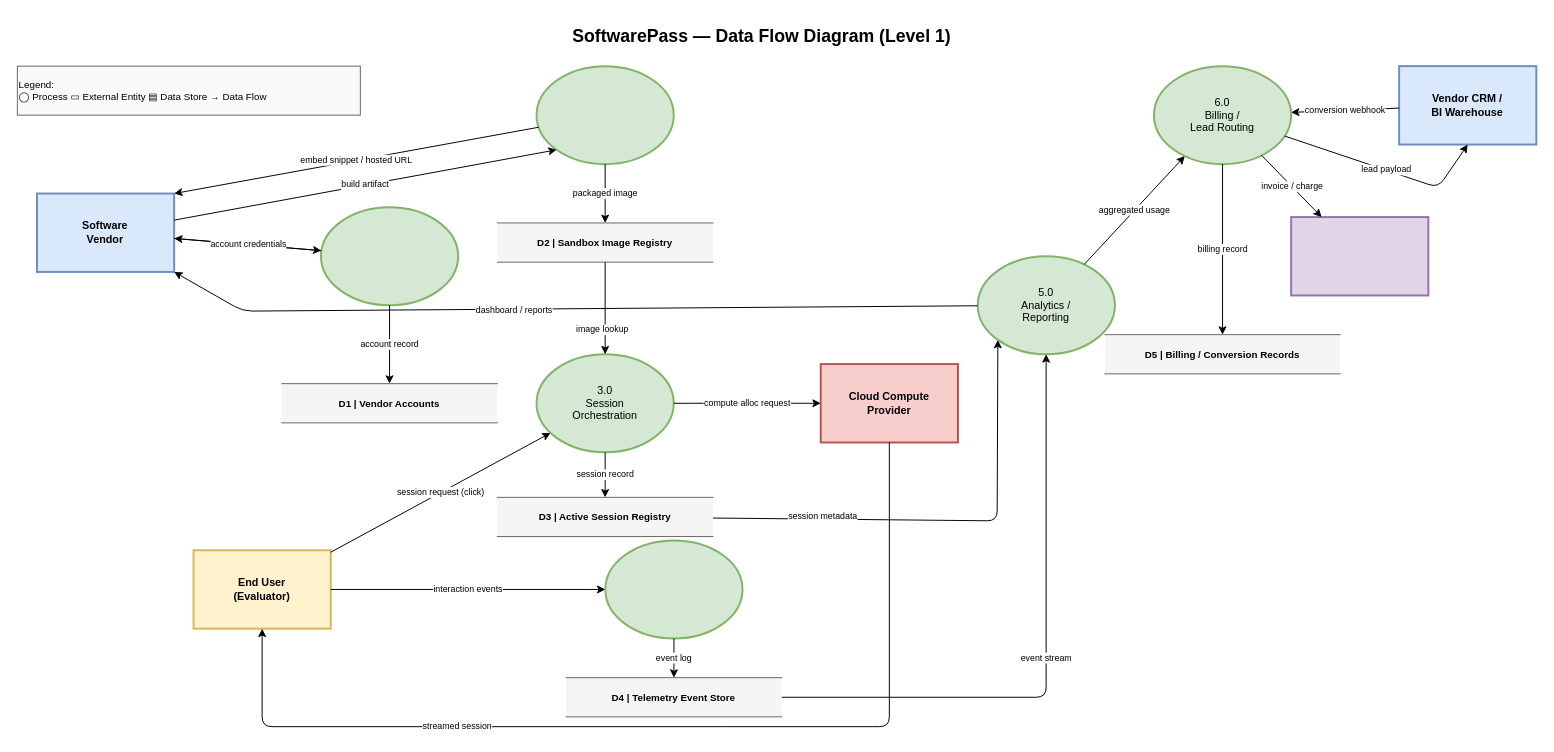
This 1554x752 diagram has some shape labels left out. The shapes that lost their labels are listed below. From the top down, each one's centre as x and y in pixels, then its label:
the point at 604,115: 2.0 Sandbox Build / Package
the point at 389,256: 1.0 Vendor Onboarding
the point at 1359,256: Payment Processor
the point at 673,589: 4.0 Telemetry Capture
